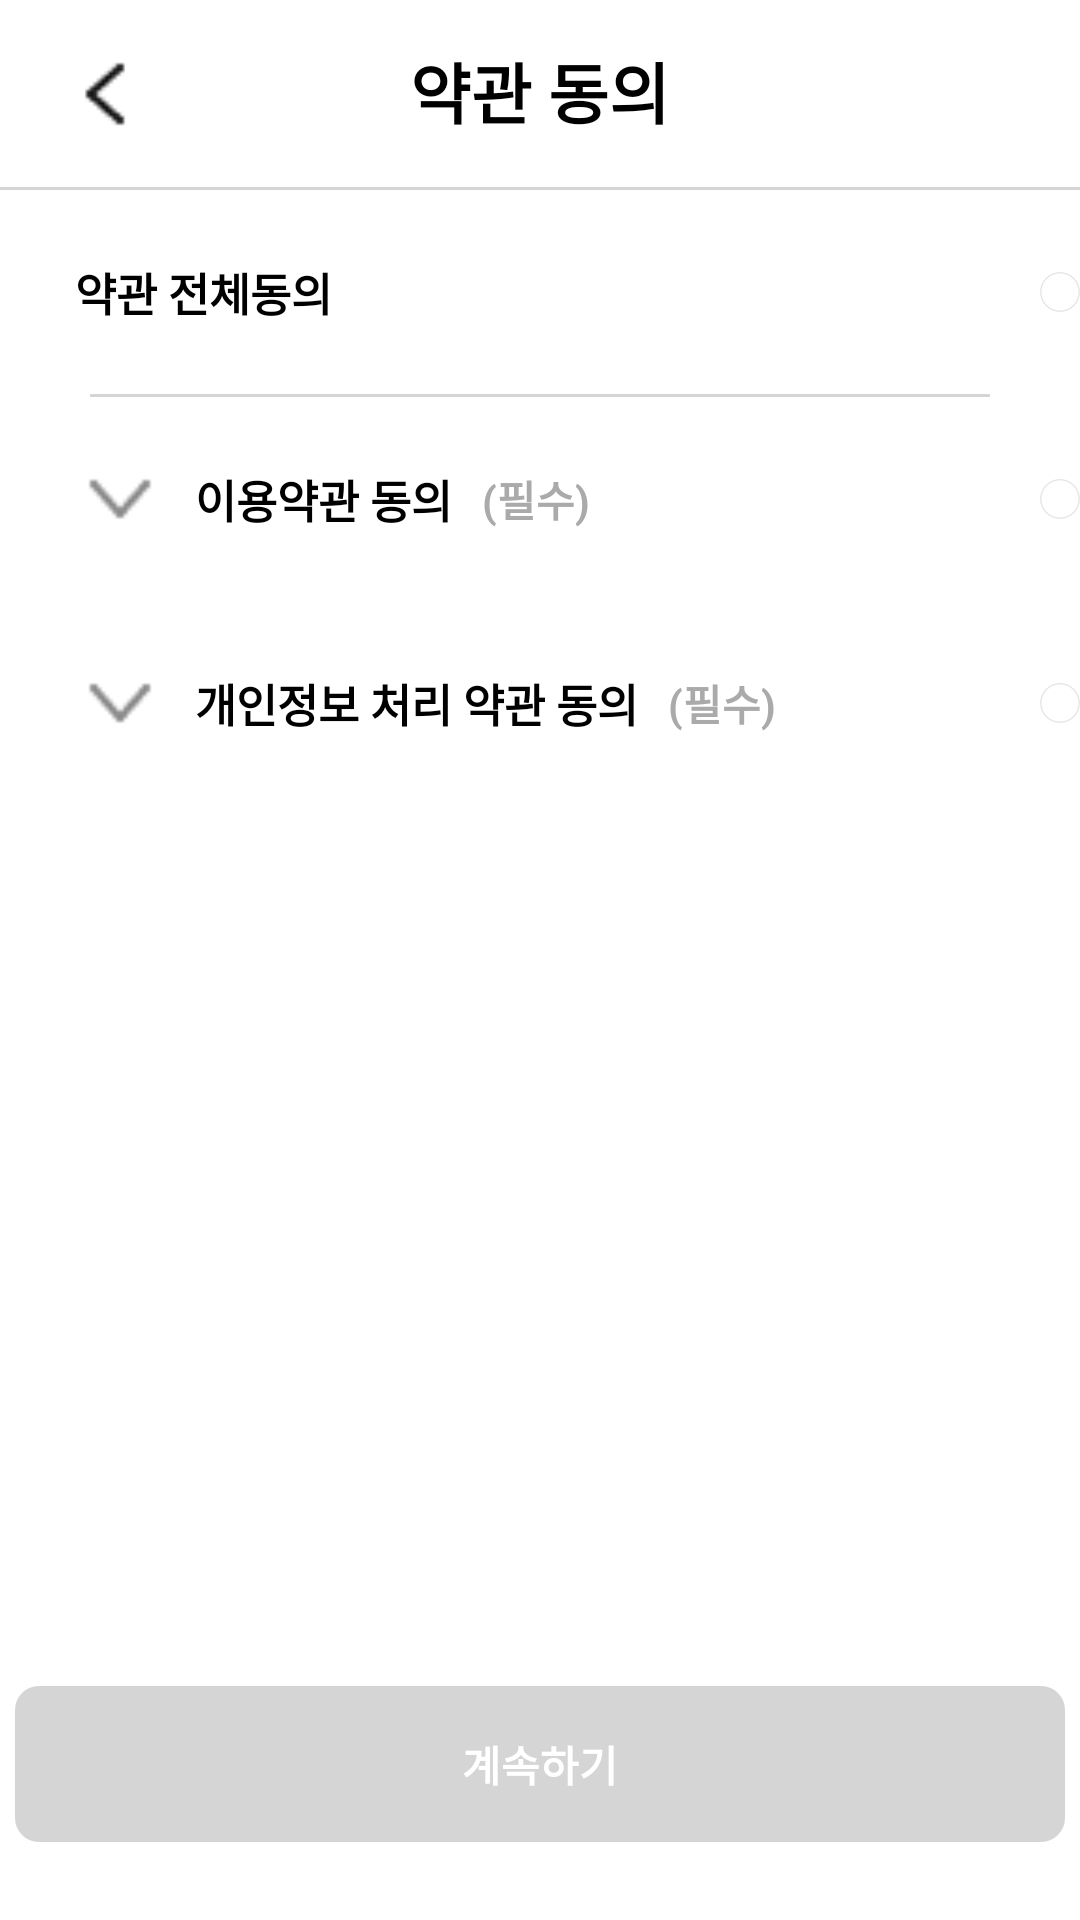

Named icons in this screenshot (1080x1920) and their centers, (x=x, y=y):
back: (x=105, y=94)
down: (x=120, y=499), (x=120, y=703)
